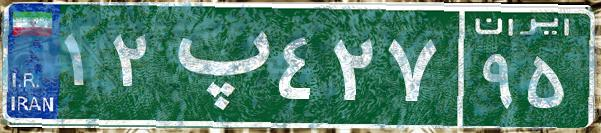1: (57, 26, 110, 107)
2: (330, 28, 385, 110), (110, 28, 158, 105)
4: (273, 28, 330, 110)
5: (525, 38, 570, 115)
7: (385, 28, 445, 110)
9: (475, 38, 525, 113)
پ: (158, 15, 273, 115)
